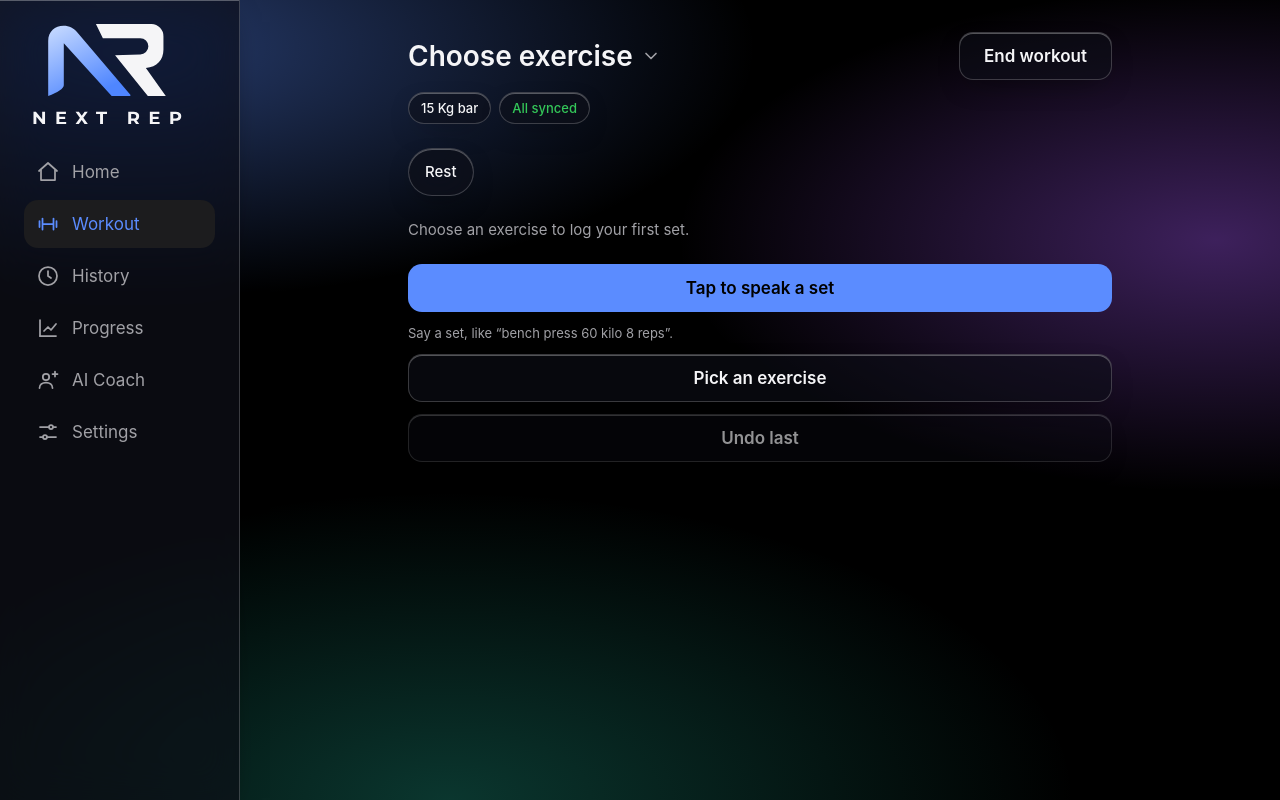
storage that is blocked › opens the panel and switches in this visit when storage throws on read and write
Click the button "Rest": click(441, 172) x1=408 y1=148 x2=474 y2=196
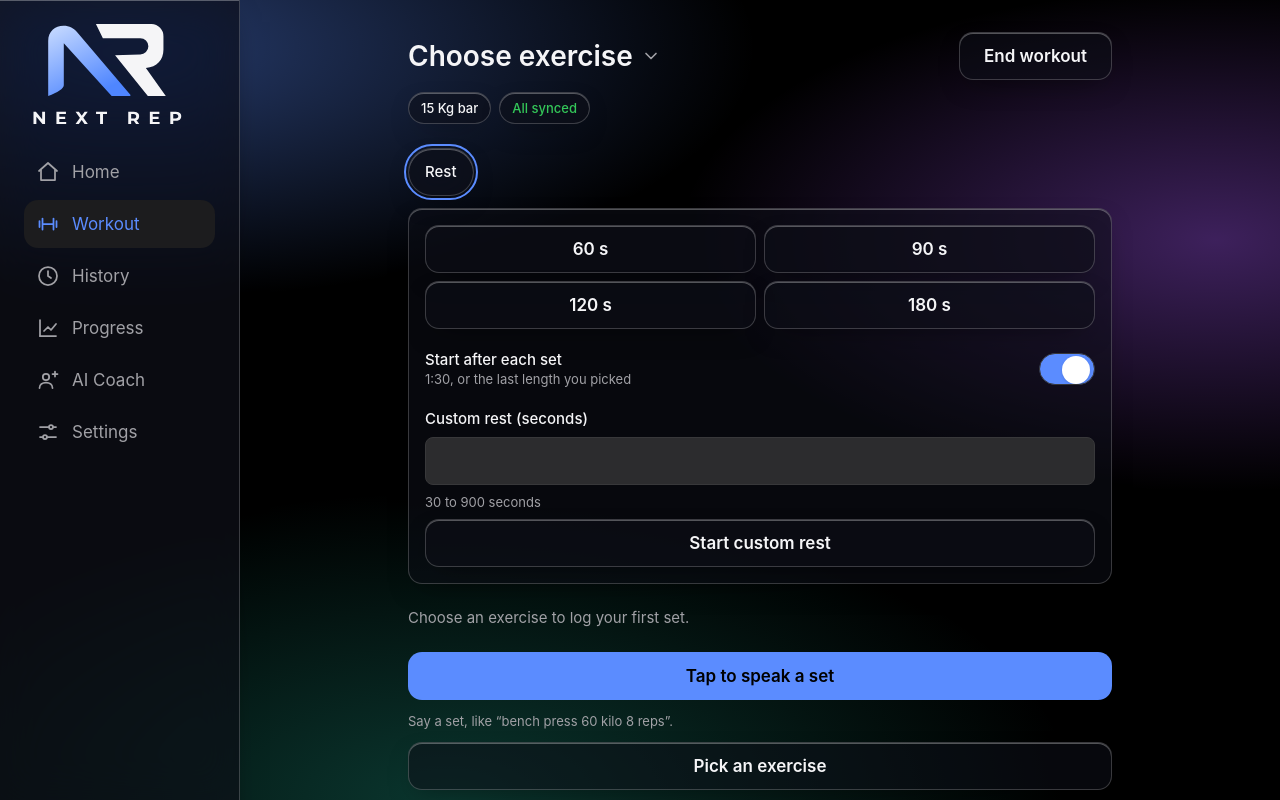
Click the switch named "Start after each set": click(1067, 369) x1=1039 y1=345 x2=1095 y2=393
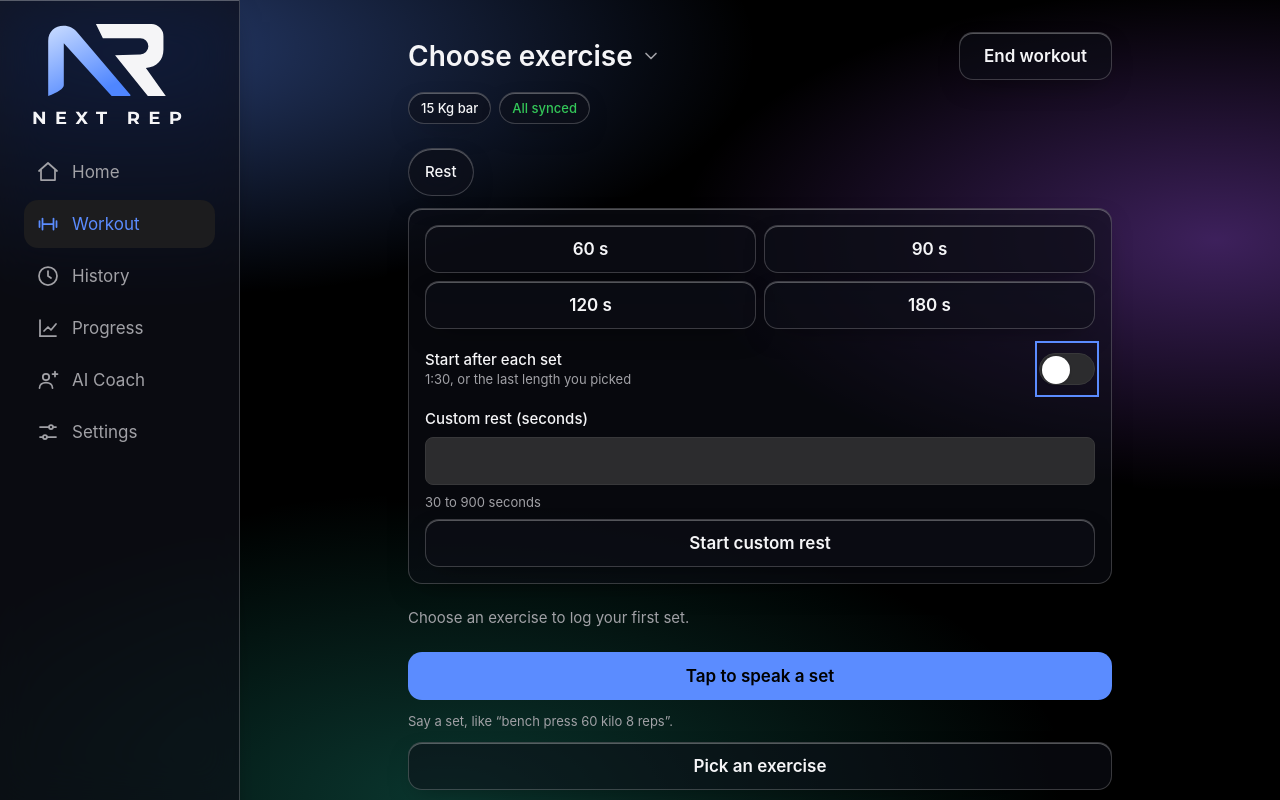
Now the switch named "Start after each set" is not checked, box x1=1039 y1=345 x2=1095 y2=393
Click the button "60 s": click(590, 249) x1=425 y1=225 x2=756 y2=273
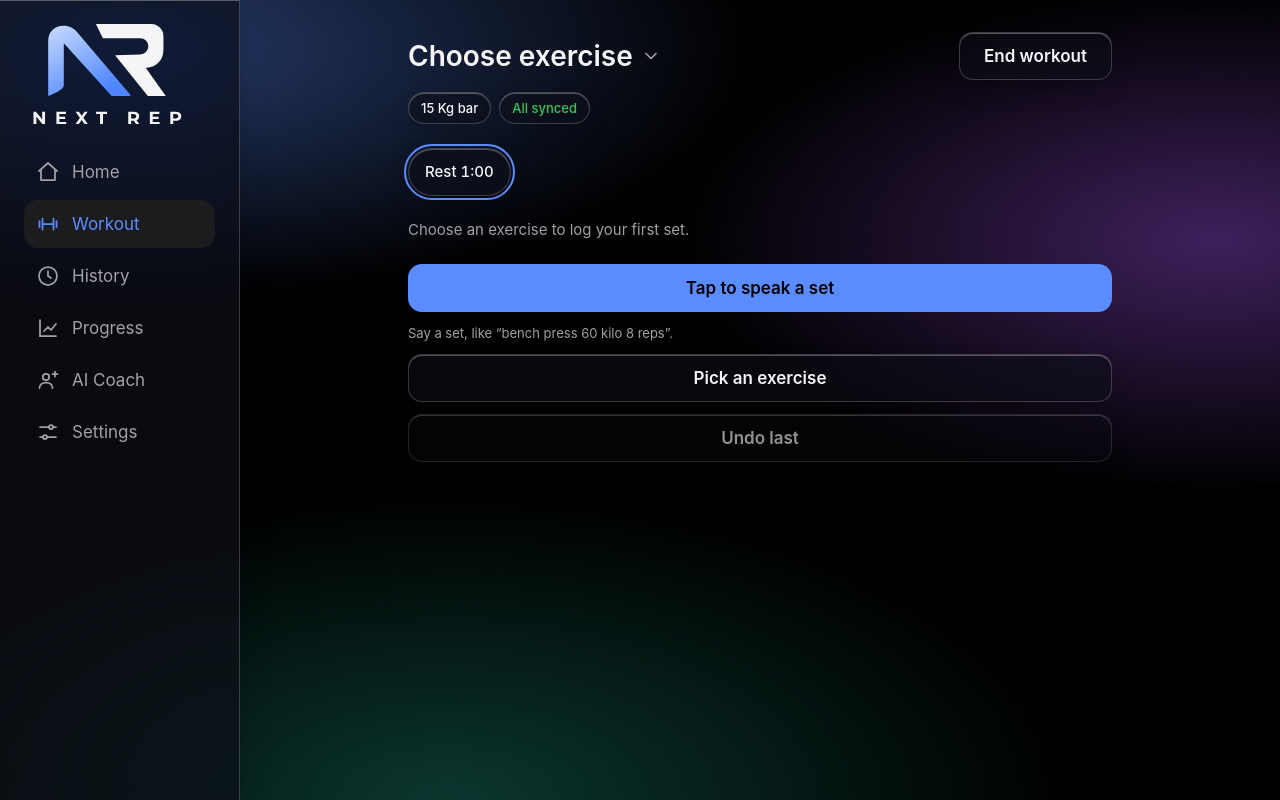
Now the button "Rest 1:00" is shown, box x1=408 y1=148 x2=511 y2=196
